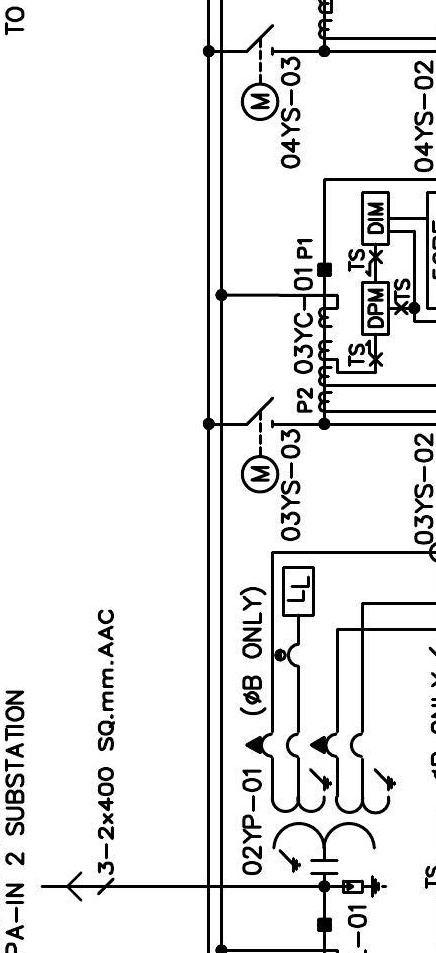115_1way_ds_w_motor: (239, 396, 280, 495), (240, 23, 280, 122)
115_cvt_1p: (244, 730, 397, 876)
115_la: (342, 875, 388, 899)
DIM: (360, 190, 390, 246)
DPM: (360, 280, 390, 337)
LL: (282, 566, 315, 617)
